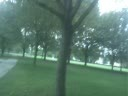window: (88, 34, 101, 55), (90, 83, 105, 96), (122, 22, 128, 49), (39, 49, 46, 67), (57, 44, 63, 62), (52, 85, 62, 95), (89, 5, 95, 18), (32, 86, 39, 96), (118, 1, 126, 9)
